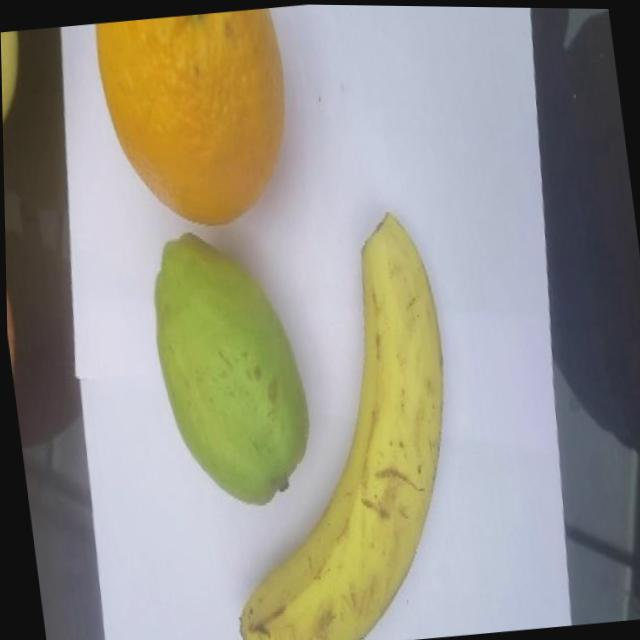Banana: (185, 205, 475, 640)
Orange: (92, 5, 301, 237)
